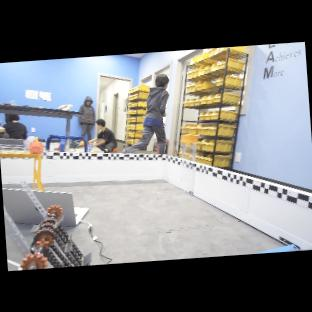Robot: (4, 204, 91, 270)
V5_RED: (28, 142, 43, 154)
redingoal: (28, 141, 42, 154)
